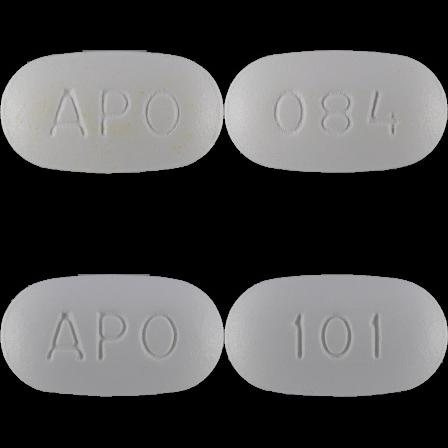53808-0753: (0, 0, 224, 224)
